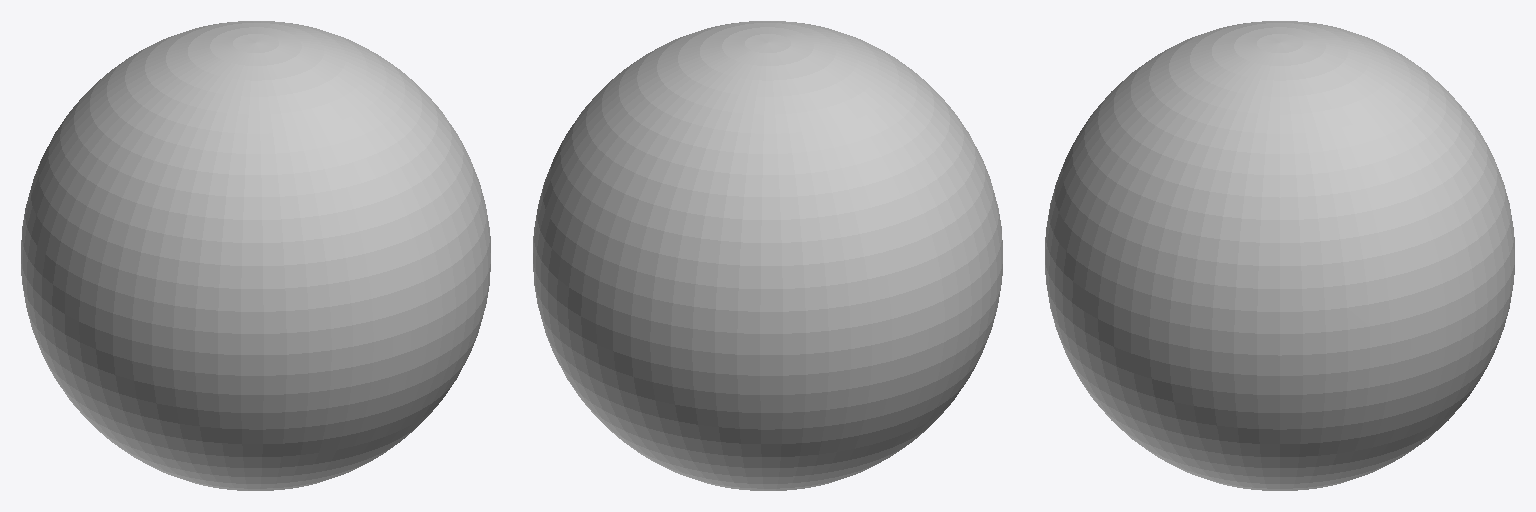
File: planet_3.obj
3 renders of one model, left to right at view 1: azimuth 30°, elevation 25°; view 2: azimuth 150°, elevation 25°; view 3: azimuth 270°, elevation 25°, orthographic.
Parts seen in each view (by area): view 1: Sphere; view 2: Sphere; view 3: Sphere.
Boxes of the visible parts, x1=… form: Sphere: x1=21, y1=21, x2=490, y2=490; Sphere: x1=533, y1=21, x2=1002, y2=490; Sphere: x1=1045, y1=21, x2=1514, y2=490.
Size of the model in its own units: 6 by 6 by 6.